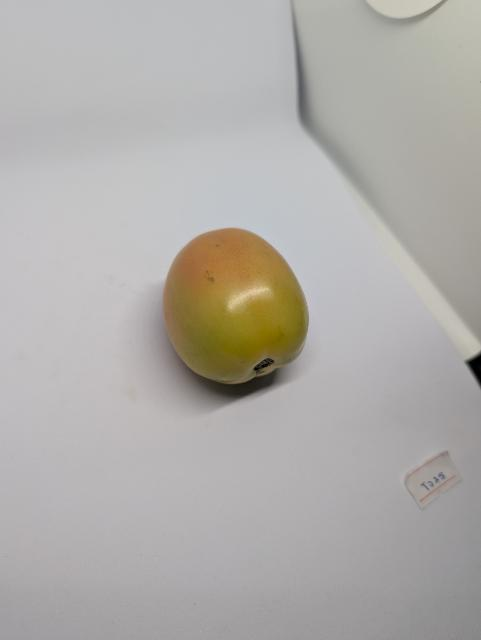turning: (150, 220, 327, 401)
